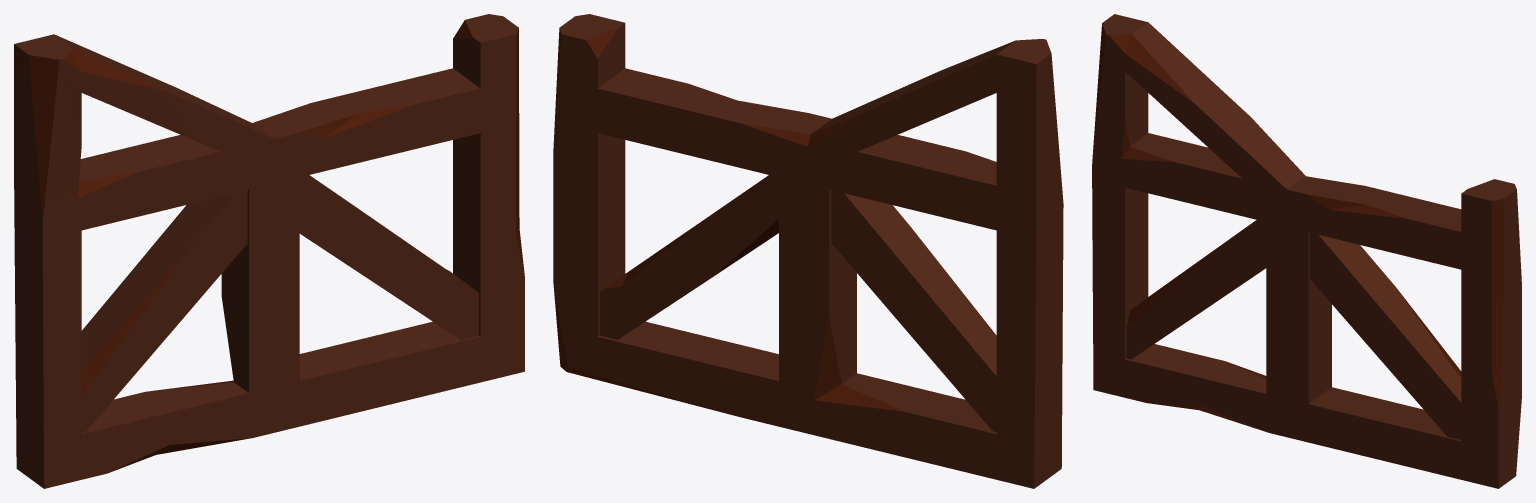
The model's file is Gate_Door_LeftRight.fbx.
3 renders of one model, left to right at view 1: azimuth 30°, elevation 25°; view 2: azimuth 150°, elevation 25°; view 3: azimuth 330°, elevation 25°, orthographic. The views are drawn at different scales.
Visible parts, largest first — view 1: Gate_Door_Left; view 2: Gate_Door_Left; view 3: Gate_Door_Left.
Boxes of the visible parts, left/top/right/bottom form: Gate_Door_Left: left=14, top=14, right=524, bottom=488; Gate_Door_Left: left=553, top=14, right=1063, bottom=488; Gate_Door_Left: left=1092, top=14, right=1521, bottom=488.
Size of the model in its own units: 41.79 by 35.14 by 4.13.
